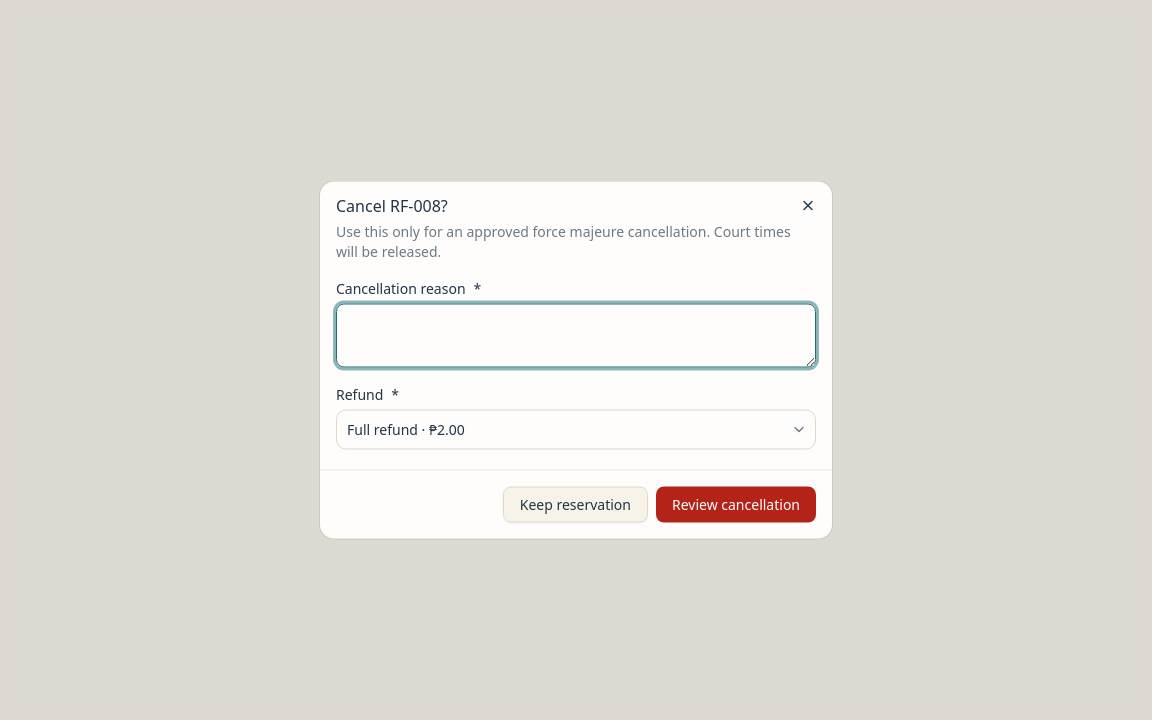
it: finalizing the current reservation › blocks a custom refund greater than the current collected amount
In the text box labelled "Cancellation reason *": (576, 336) [336,304,816,368], type "Court flooding"
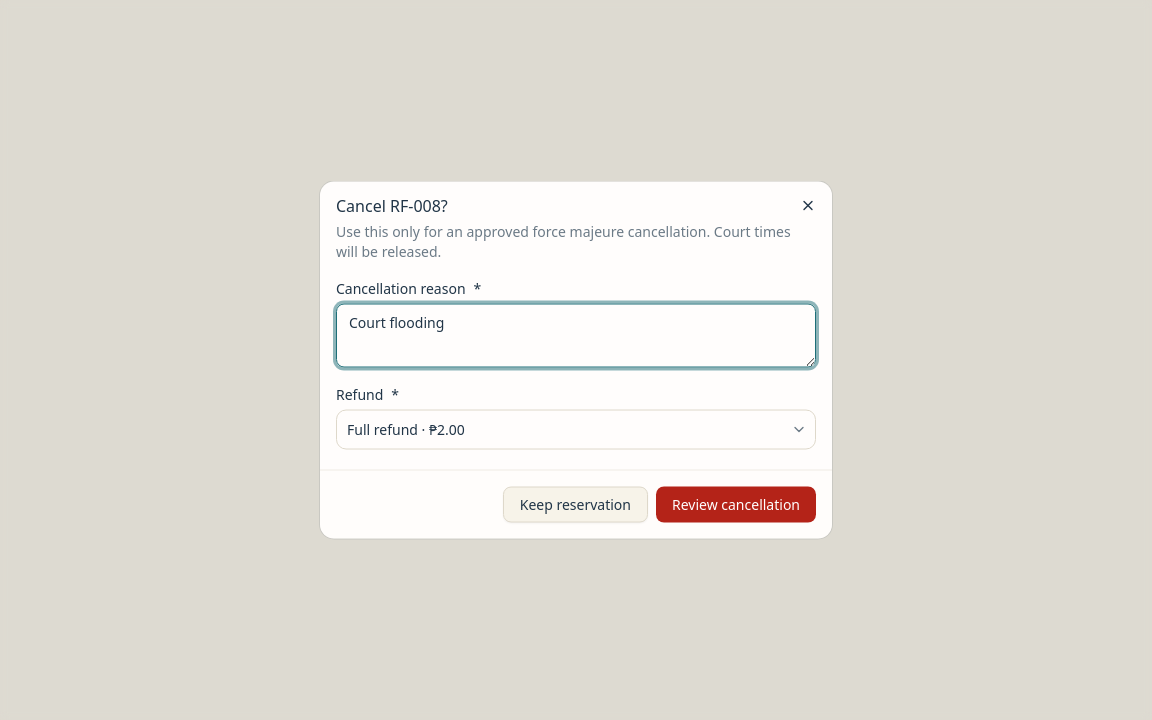
Click the dropdown labelled "refund": (406, 429) [336,410,816,450]
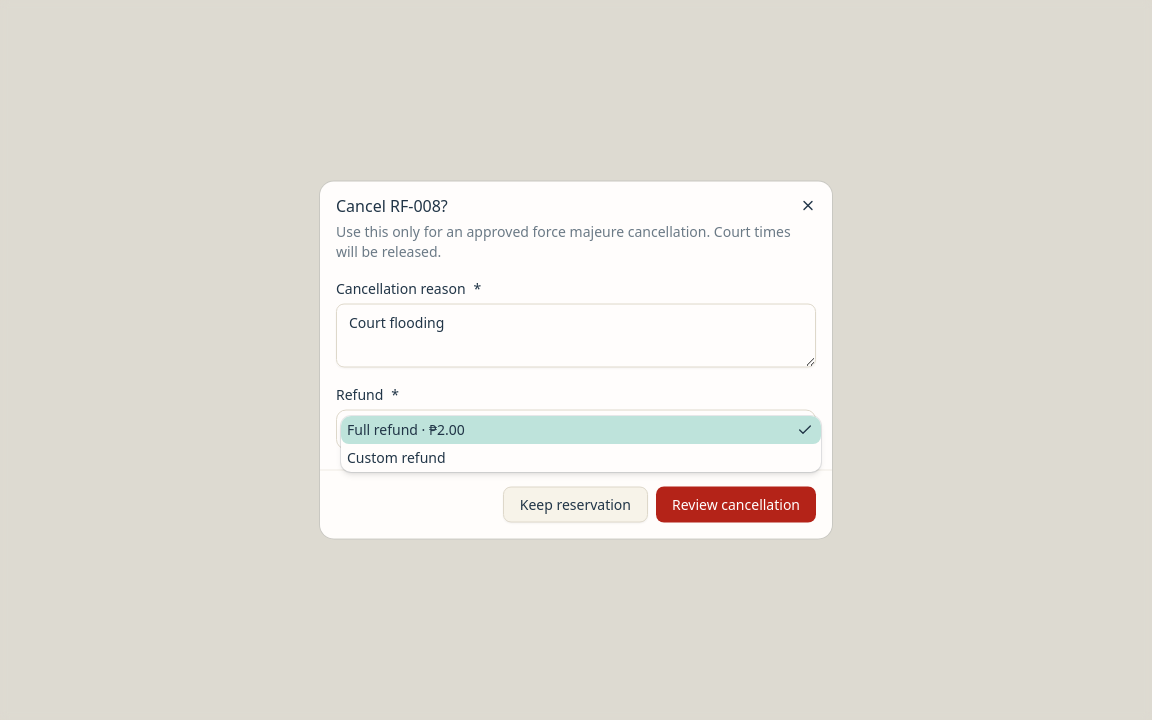
Click the option "Custom refund": (396, 457) [347,448,446,466]
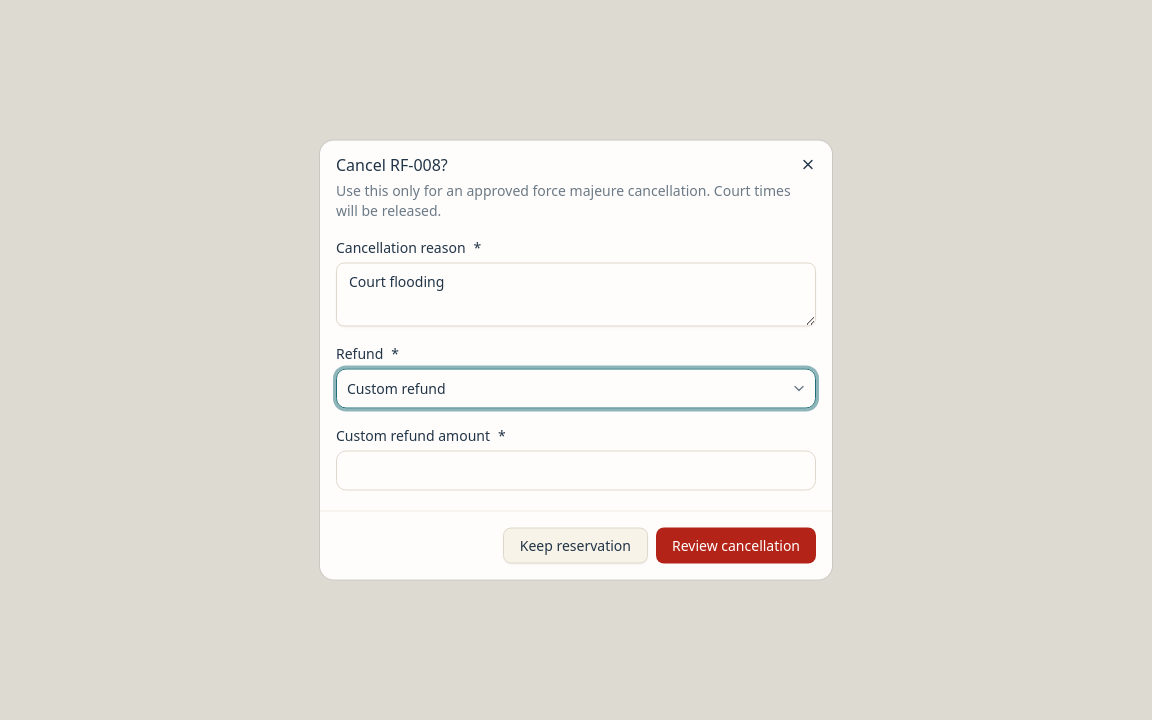
In the number field labelled "Custom refund amount *": (576, 470) [336,450,816,490], type "3"
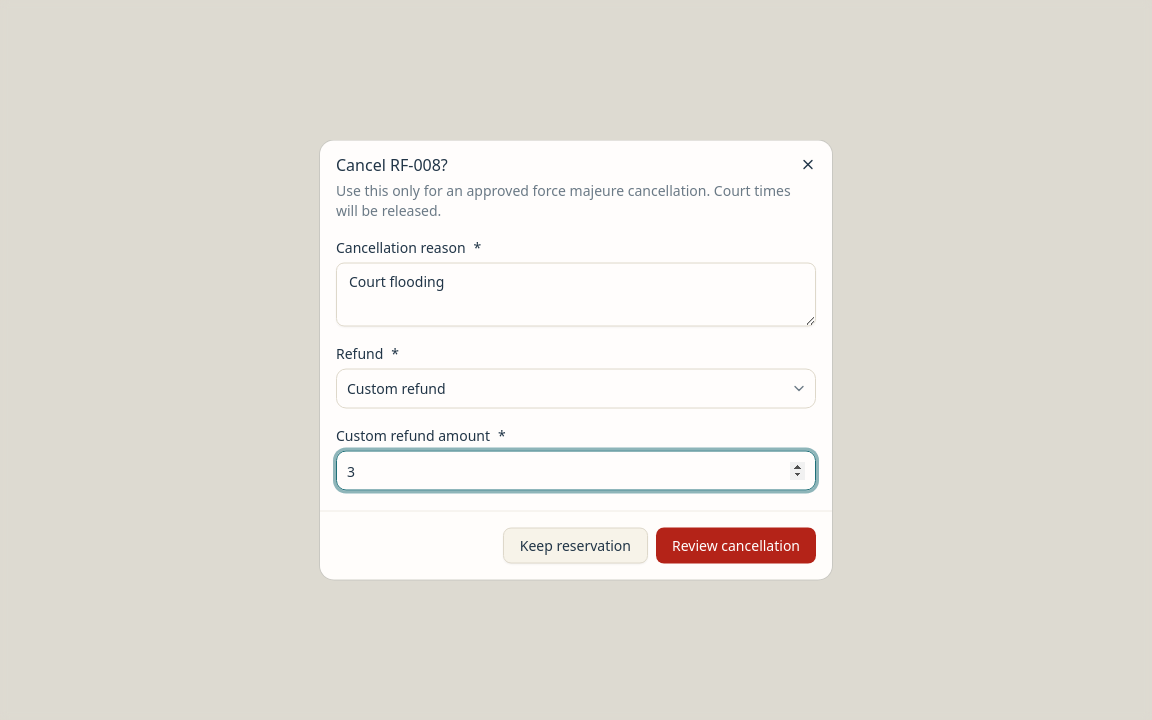
Click the button "Review cancellation": (736, 546) [656,528,816,564]
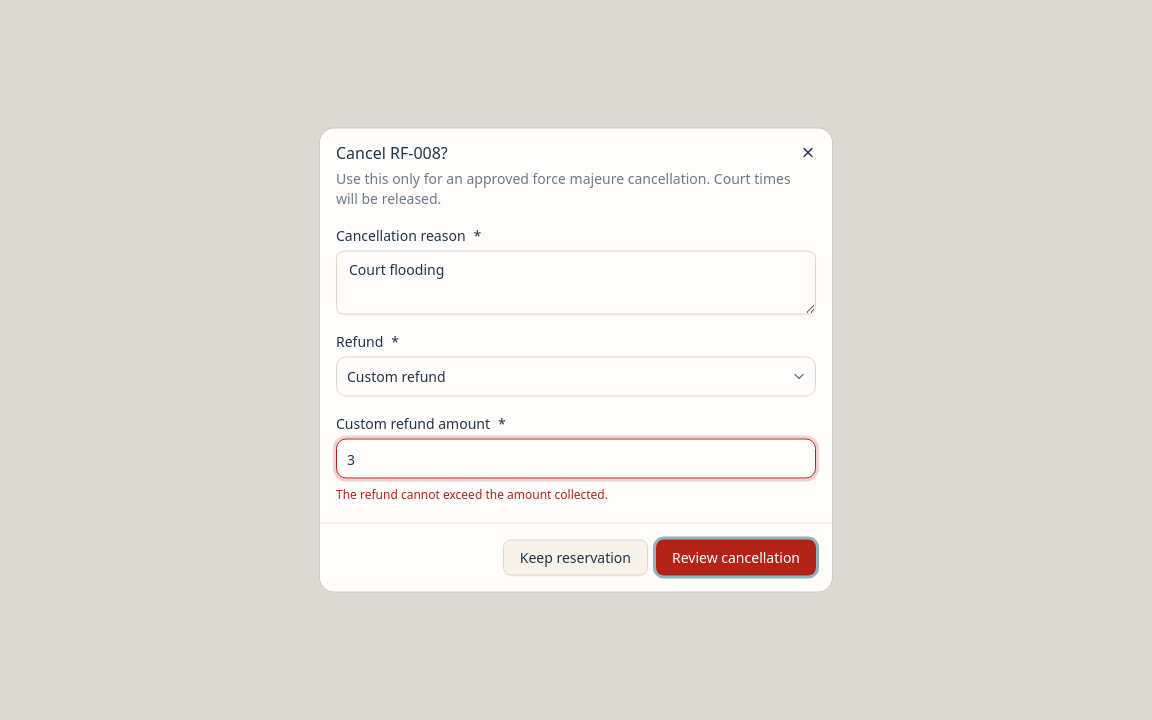
Expected: the message reads "The refund cannot exceed the amount collected.", [336,486,608,502]
